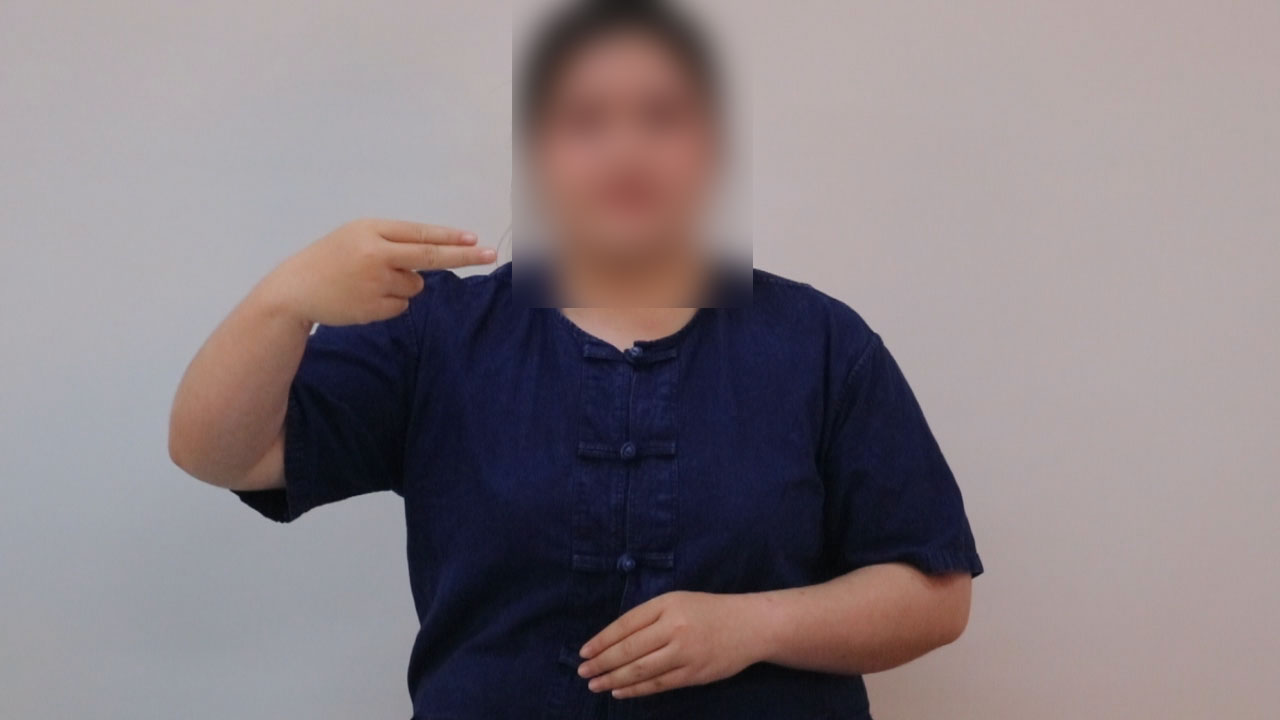hor: (257, 199, 511, 341)
